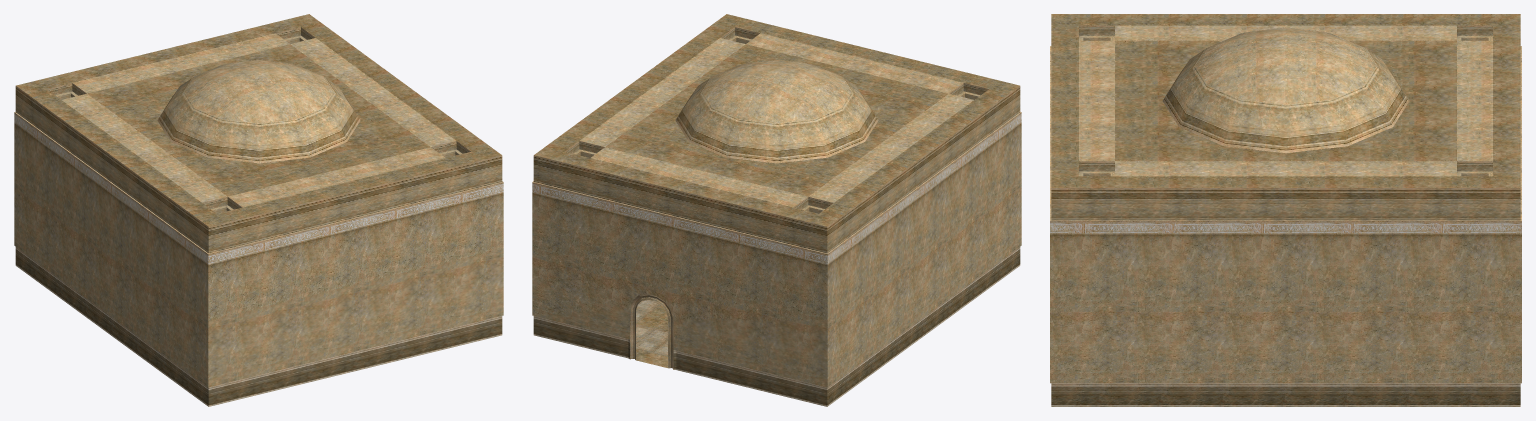
The model's file is mun_all_capitol_s01_r9_meeting4_mesh_meeting4.fbx.
The picture shows the model from 3 angles, left to right: view 1: azimuth 30°, elevation 25°; view 2: azimuth 150°, elevation 25°; view 3: azimuth 270°, elevation 25°; orthographic projection. The views are drawn at different scales.
Visible parts, largest first — view 1: mesh_node; view 2: mesh_node; view 3: mesh_node.
Boxes of the visible parts, x1,y1,x2,y2 form: mesh_node: [14, 14, 503, 406]; mesh_node: [532, 14, 1021, 406]; mesh_node: [1050, 14, 1521, 406].
Bounding box in the file's own units: 15.07 × 11.06 × 17.14.
